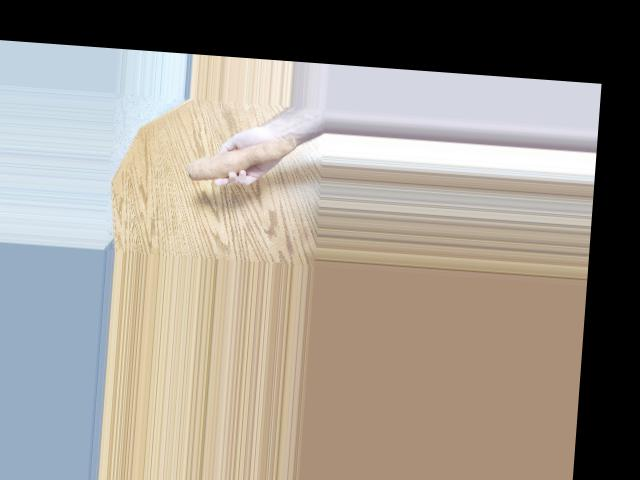sweet_potato: (185, 130, 294, 189)
